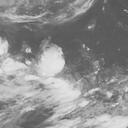cyclone: (24, 45, 81, 105)
